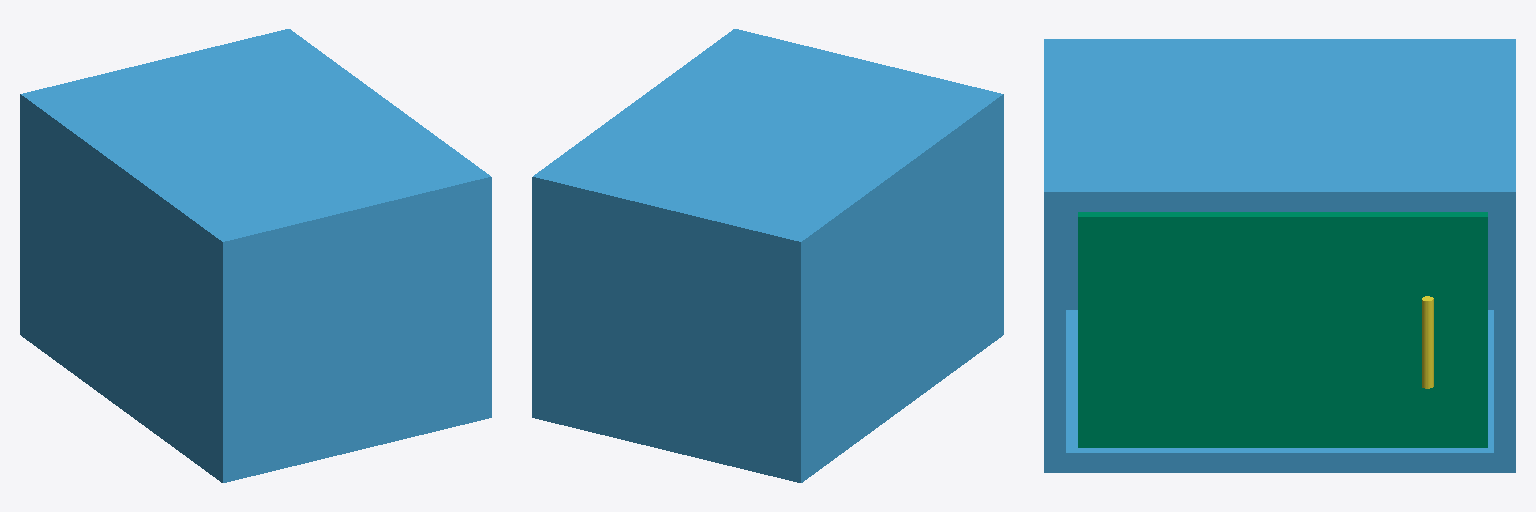
The robot description file, URDF, robot "my_cabinet":
<?xml version="1.0" ?>
<robot name="my_cabinet">
	<link name="world"/>
	<joint name="virtual_joint" type="fixed">
		<parent link="world"/>
		<child link="base_cabinet_link"/>
		<origin xyz="0.0 0.0 0.0" rpy="0.0 0.0 0.0"/>
	</joint>
	<link name="base_cabinet_link">
		<visual>
			<origin xyz="0.0 -0.0025 -0.11971086962331799" rpy="0.0 0.0 0.0"/>
			<geometry>
				<box size="0.3 0.3911377314614434 0.018"/>
			</geometry>
		</visual>
		<collision name="base_cabinet_link_collision_0">
			<origin xyz="0.0 -0.0025 -0.11971086962331799" rpy="0.0 0.0 0.0"/>
			<geometry>
				<box size="0.3 0.3911377314614434 0.018"/>
			</geometry>
		</collision>
		<visual>
			<origin xyz="0.0 0.18406886573072173 0.0" rpy="0.0 0.0 0.0"/>
			<geometry>
				<box size="0.3 0.018 0.25742173924663597"/>
			</geometry>
		</visual>
		<collision name="base_cabinet_link_collision_1">
			<origin xyz="0.0 0.18406886573072173 0.0" rpy="0.0 0.0 0.0"/>
			<geometry>
				<box size="0.3 0.018 0.25742173924663597"/>
			</geometry>
		</collision>
		<visual>
			<origin xyz="0.0 -0.18906886573072174 0.0" rpy="0.0 0.0 0.0"/>
			<geometry>
				<box size="0.3 0.018 0.25742173924663597"/>
			</geometry>
		</visual>
		<collision name="base_cabinet_link_collision_2">
			<origin xyz="0.0 -0.18906886573072174 0.0" rpy="0.0 0.0 0.0"/>
			<geometry>
				<box size="0.3 0.018 0.25742173924663597"/>
			</geometry>
		</collision>
		<visual>
			<origin xyz="0.0 -0.0025 0.11971086962331799" rpy="0.0 0.0 0.0"/>
			<geometry>
				<box size="0.3 0.3911377314614434 0.018"/>
			</geometry>
		</visual>
		<collision name="base_cabinet_link_collision_3">
			<origin xyz="0.0 -0.0025 0.11971086962331799" rpy="0.0 0.0 0.0"/>
			<geometry>
				<box size="0.3 0.3911377314614434 0.018"/>
			</geometry>
		</collision>
		<visual>
			<origin xyz="-0.141 -0.0025 0.0" rpy="0.0 0.0 0.0"/>
			<geometry>
				<box size="0.018 0.3911377314614434 0.25742173924663597"/>
			</geometry>
		</visual>
		<collision name="base_cabinet_link_collision_4">
			<origin xyz="-0.141 -0.0025 0.0" rpy="0.0 0.0 0.0"/>
			<geometry>
				<box size="0.018 0.3911377314614434 0.25742173924663597"/>
			</geometry>
		</collision>
		<inertial>
			<mass value="0.200000"/>
			<inertia ixx="0.003654" ixy="0.0" ixz="0.0" iyy="0.002604" iyz="0.0" izz="0.004050"/>
		</inertial>
	</link>
	<link name="door_link">
		<visual>
			<origin xyz="0.0 -0.17006886573072172 0.0"/>
			<geometry>
				<box size="0.018 0.34013773146144344 0.211421739246636"/>
			</geometry>
		</visual>
		<collision name="door_link_collision">
			<origin xyz="0.0 -0.17006886573072172 0.0"/>
			<geometry>
				<box size="0.018 0.34013773146144344 0.211421739246636"/>
			</geometry>
		</collision>
		<inertial>
			<mass value="0.200000"/>
			<inertia ixx="0.002673" ixy="0.0" ixz="0.0" iyy="0.000750" iyz="0.0" izz="0.001934"/>
		</inertial>
	</link>
	<joint name="door_joint" type="revolute">
		<origin xyz="0.141 -0.17006886573072172 0.0" rpy="0.000000 -0.000000 3.141593"/>
		<axis xyz="0 0 1"/>
		<parent link="base_cabinet_link"/>
		<child link="door_link"/>
		<limit effort="50" lower="-1.658062789394613" upper="0" velocity="10"/>
		<dynamics friction="3.5" damping="3.5"/>
	</joint>
	<link name="handle_link">
		<visual>
			<origin xyz="0.0 0.0 0.0" rpy="0.0 0.0 0.0"/>
			<geometry>
				<cylinder length="0.08" radius="0.005"/>
			</geometry>
		</visual>
		<collision name="handle_link_collision_0">
			<origin xyz="0.0 0.0 0.0" rpy="0.0 0.0 0.0"/>
			<geometry>
				<cylinder length="0.08" radius="0.005"/>
			</geometry>
		</collision>
		<visual>
			<origin xyz="-0.01 0.0 0.02" rpy="0.0 1.5707963267948966 0.0"/>
			<geometry>
				<cylinder length="0.02" radius="0.003"/>
			</geometry>
		</visual>
		<collision name="handle_link_collision_1">
			<origin xyz="-0.01 0.0 0.02" rpy="0.0 1.5707963267948966 0.0"/>
			<geometry>
				<cylinder length="0.01" radius="0.003"/>
			</geometry>
		</collision>
		<visual>
			<origin xyz="-0.01 0.0 -0.02" rpy="0.0 1.5707963267948966 0.0"/>
			<geometry>
				<cylinder length="0.02" radius="0.003"/>
			</geometry>
		</visual>
		<collision name="handle_link_collision_2">
			<origin xyz="-0.01 0.0 -0.02" rpy="0.0 1.5707963267948966 0.0"/>
			<geometry>
				<cylinder length="0.02" radius="0.003"/>
			</geometry>
		</collision>
		<inertial>
			<mass value="0.050000"/>
			<inertia ixx="0.000027" ixy="0.0" ixz="0.0" iyy="0.000029" iyz="0.0" izz="0.000003"/>
		</inertial>
	</link>
	<joint name="handle_joint" type="fixed">
		<origin xyz="-0.028999999999999998 -0.29013773146144345 0.0" rpy="0.000000 -0.000000 3.141593"/>
		<parent link="door_link"/>
		<child link="handle_link"/>
	</joint>
	<gazebo reference="base_cabinet_link">
		<sensor name="main_sensor" type="contact">
			<selfCollide>true</selfCollide>
			<alwaysOn>true</alwaysOn>
			<updateRate>5.0</updateRate>
			<material>Gazebo/Red</material>
			<contact>
				<collision>base_cabinet_link_collision_0_collision</collision>
				<collision>base_cabinet_link_collision_1_collision</collision>
				<collision>base_cabinet_link_collision_2_collision</collision>
				<collision>base_cabinet_link_collision_3_collision</collision>
				<collision>base_cabinet_link_collision_4_collision</collision>
			</contact>
			<plugin name="gazebo_ros_bumper_controller" filename="libgazebo_ros_bumper.so">
				<bumperTopicName>/contact</bumperTopicName>
				<frameName>world</frameName>
			</plugin>
		</sensor>
	</gazebo>
	<gazebo reference="door_link">
		<sensor name="main_sensor" type="contact">
			<selfCollide>true</selfCollide>
			<alwaysOn>true</alwaysOn>
			<updateRate>5.0</updateRate>
			<material>Gazebo/Red</material>
			<contact>
				<collision>door_link_collision_collision</collision>
			</contact>
			<plugin name="gazebo_ros_bumper_controller" filename="libgazebo_ros_bumper.so">
				<bumperTopicName>/contact_door</bumperTopicName>
				<frameName>contact_door</frameName>
			</plugin>
		</sensor>
	</gazebo>
	<gazebo reference="door_link">
		<mu>3.0</mu>
		<mu2>3.0</mu2>
		<kp>10000000</kp>
		<kd>100</kd>
	</gazebo>
</robot>

--- What the picture shows (computed from the rendered views, not written in the file) ---
The picture shows the robot from 3 angles, left to right: view 1: azimuth 30°, elevation 25°; view 2: azimuth 150°, elevation 25°; view 3: azimuth 270°, elevation 25°; orthographic projection.
Robot: my_cabinet — 4 links, 3 joints (1 revolute, 2 fixed); root link world; default pose: all joints at 0.
Visible links, largest first — view 1: base_cabinet_link; view 2: base_cabinet_link; view 3: base_cabinet_link, door_link, handle_link.
Boxes of the visible links, x1,y1,x2,y2 form: base_cabinet_link: (20,29,491,482); base_cabinet_link: (532,29,1003,482); base_cabinet_link: (1044,39,1515,472); door_link: (1078,212,1487,447); handle_link: (1422,296,1433,388).
Bounding box of the posed robot: 0.325 × 0.3911 × 0.2574 m (x, y, z).
Geometry: primitives only (box / cylinder / sphere), no mesh files.
